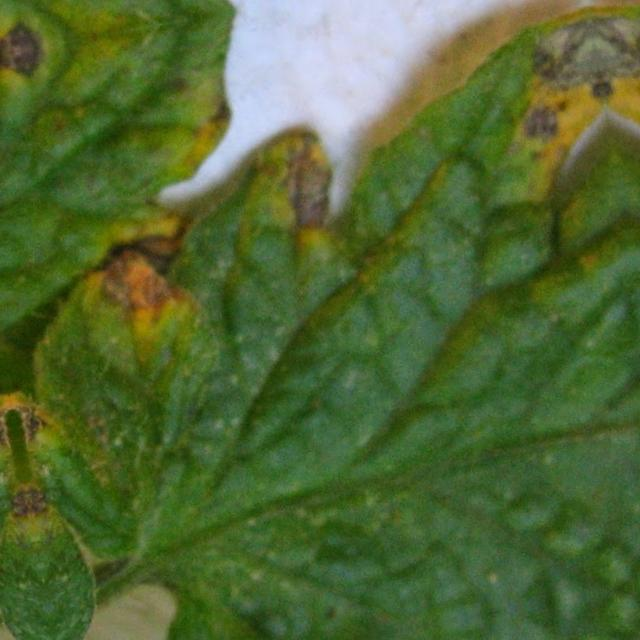Tomato Septoria leaf spot: (0, 5, 640, 640), (0, 1, 399, 640)
